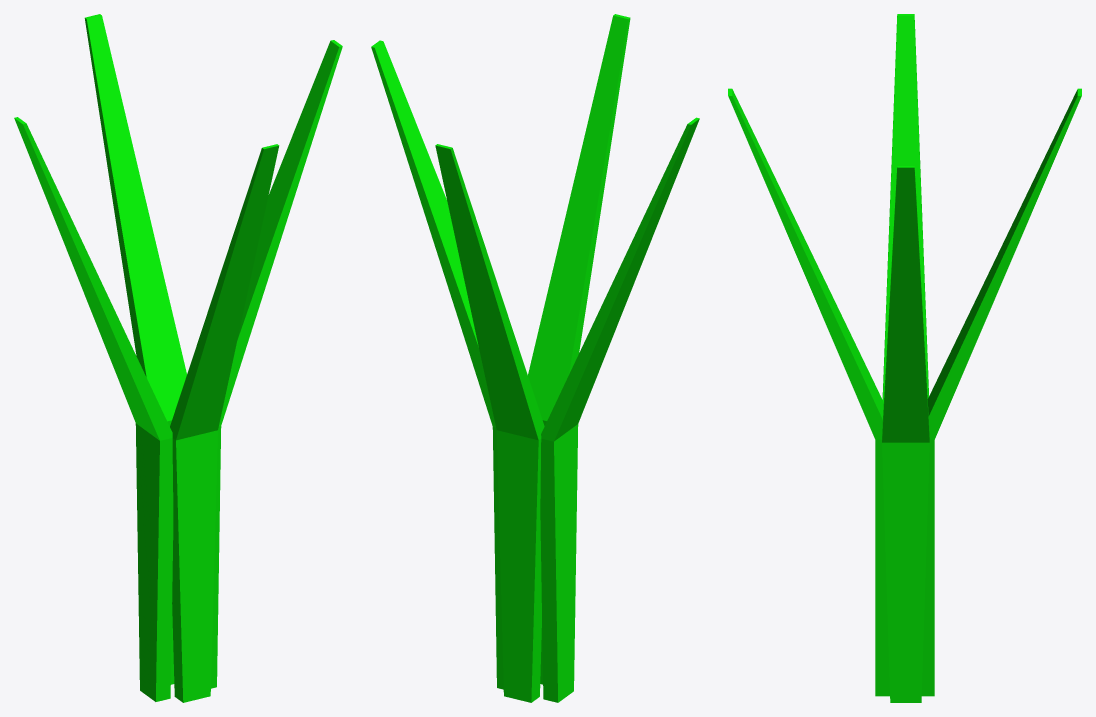
The model's file is grass3.glb.
The picture shows the model from 3 angles, left to right: view 1: azimuth 30°, elevation 25°; view 2: azimuth 150°, elevation 25°; view 3: azimuth 270°, elevation 25°; orthographic projection.
Parts seen in each view (by area): view 1: Plane.032; view 2: Plane.032; view 3: Plane.032.
Part boxes in pixels (left/top/right/bottom): Plane.032: left=14, top=14, right=342, bottom=702; Plane.032: left=371, top=14, right=699, bottom=702; Plane.032: left=728, top=14, right=1081, bottom=702.
Bounding box in the file's own units: 0.2436 × 0.4415 × 0.2369.
